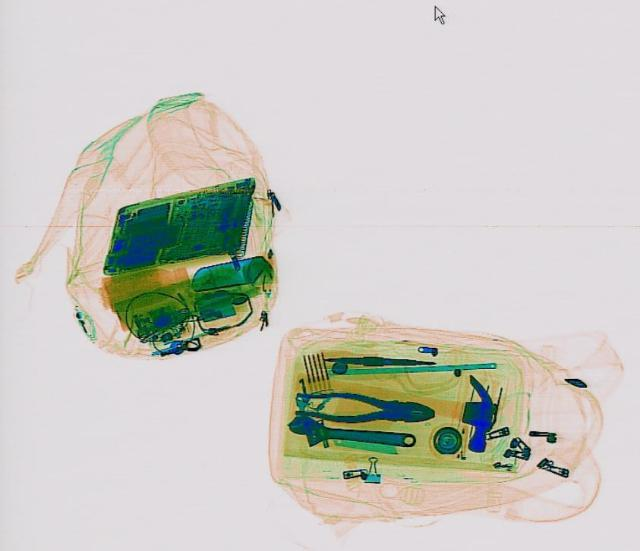Pliers: (292, 389, 436, 426)
Wrench: (282, 412, 416, 454)
